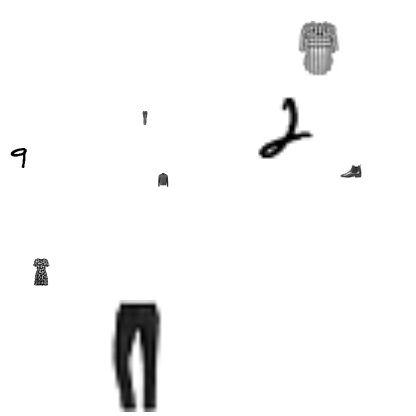2: (241, 89, 325, 173)
9: (6, 140, 34, 168)
Ankle_boot: (340, 160, 362, 182)
Coat: (156, 173, 170, 187)
Dress: (27, 258, 55, 286)
Shirt: (291, 21, 347, 77)
Trouser: (80, 300, 192, 412), (138, 111, 152, 125)
